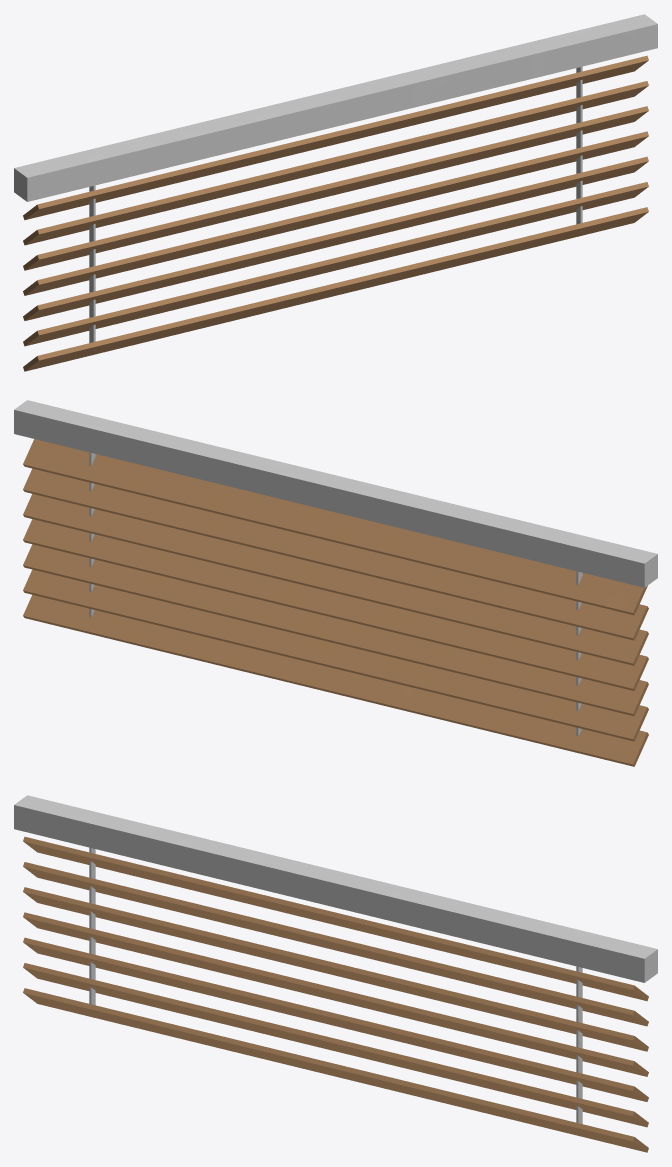
The model's file is Curtain_03_02.fbx.
3 views of the same model, one above another, from view 1: azimuth 30°, elevation 25°; view 2: azimuth 150°, elevation 25°; view 3: azimuth 330°, elevation 25° (orthographic).
Parts seen in each view (by area): view 1: Curtain_03_02; view 2: Curtain_03_02; view 3: Curtain_03_02.
Boxes of the visible parts, box(x1,y1,x2,y2) form: Curtain_03_02: box(14, 14, 657, 371); Curtain_03_02: box(14, 400, 657, 766); Curtain_03_02: box(14, 795, 657, 1152).
Bounding box in the file's own units: 1.46 × 0.4551 × 0.0643.
